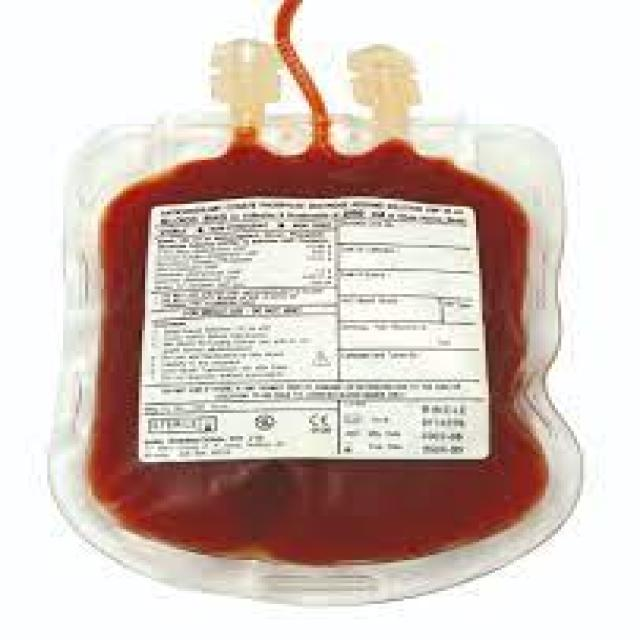B3: (46, 45, 594, 610)
